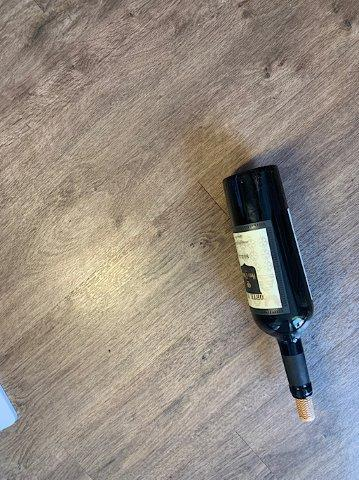botolkaca: (225, 166, 314, 418)
